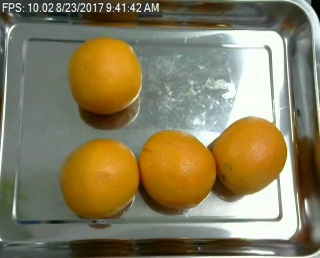Orange: (59, 137, 139, 217), (212, 114, 288, 194), (139, 131, 217, 208), (68, 37, 142, 114)
